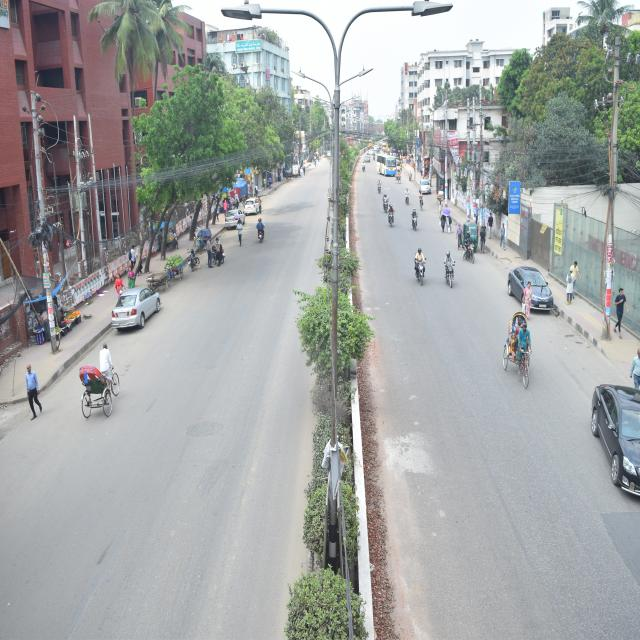bus: (372, 146, 402, 183)
car: (583, 350, 640, 515), (95, 276, 169, 346), (505, 243, 563, 323), (238, 192, 268, 219), (420, 169, 438, 210), (217, 203, 245, 229)
motorbike: (409, 239, 441, 309), (202, 227, 229, 289), (444, 245, 465, 301), (461, 230, 483, 278), (253, 213, 271, 257), (406, 198, 422, 232), (384, 200, 396, 233), (378, 190, 389, 210), (359, 153, 367, 178), (374, 177, 384, 196)
